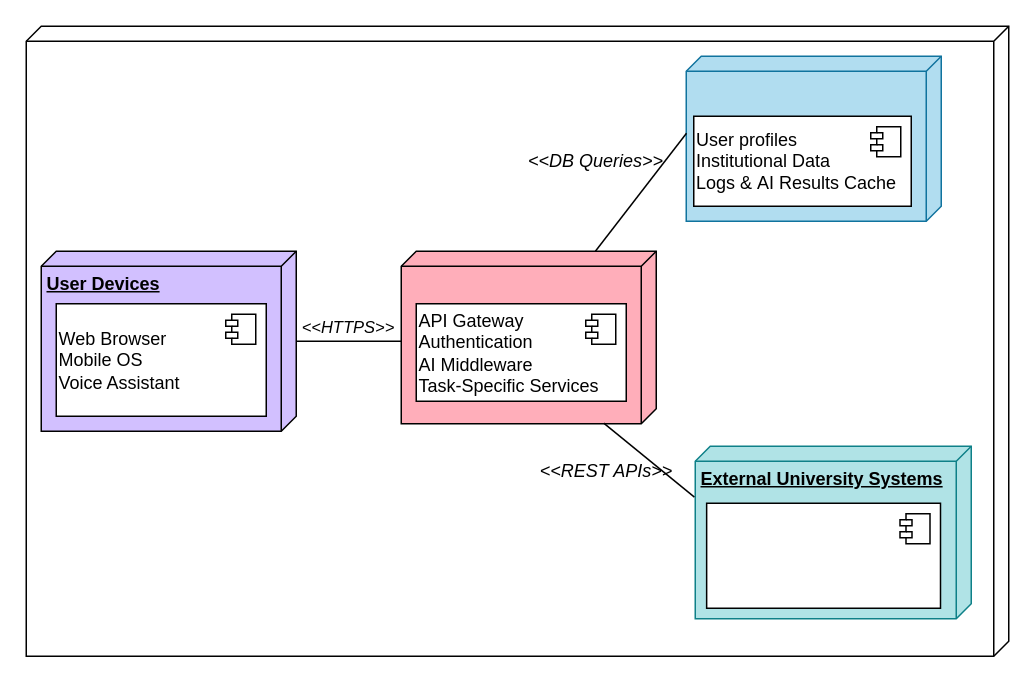
This 1035x683 diagram has some shape labels left out. The shapes that lost their labels are listed below. From the top down, each one's box as (x1, y1, x2, y2) in pixels, then its label:
(685, 55, 941, 221): AIDAP Database Server
(400, 250, 656, 424): AIDAP Application Server
(705, 502, 940, 608): LMS System Email System Calendar System Identity Provider (SSO)
